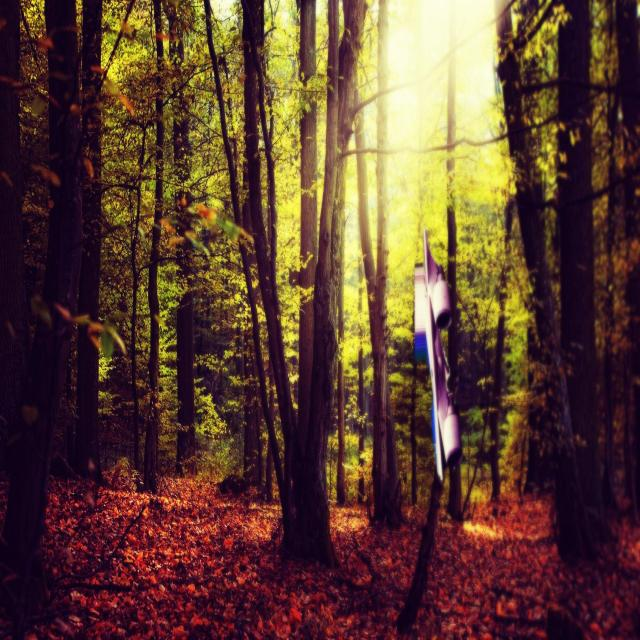airplane: (413, 226, 462, 484)
